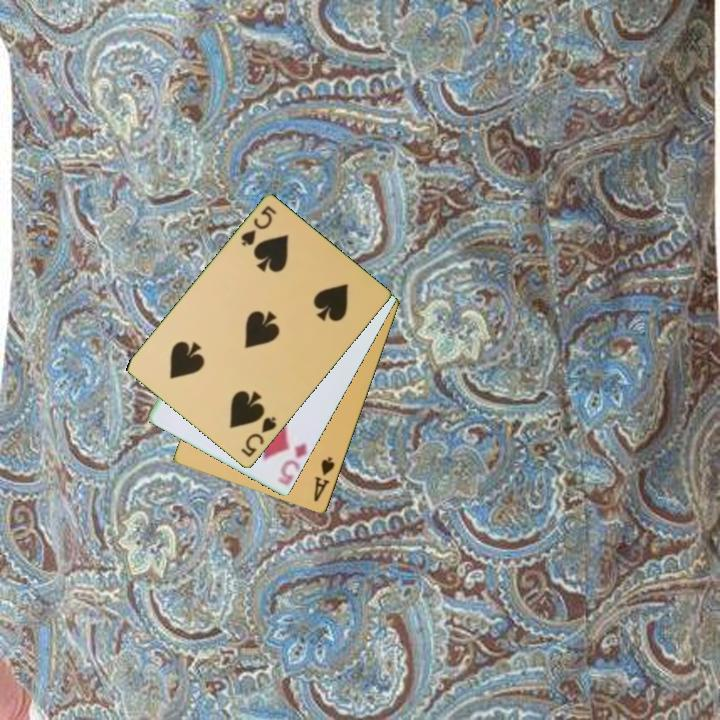5d: (276, 439, 310, 486)
5s: (237, 202, 280, 250), (237, 413, 279, 461)
As: (310, 454, 338, 505)
